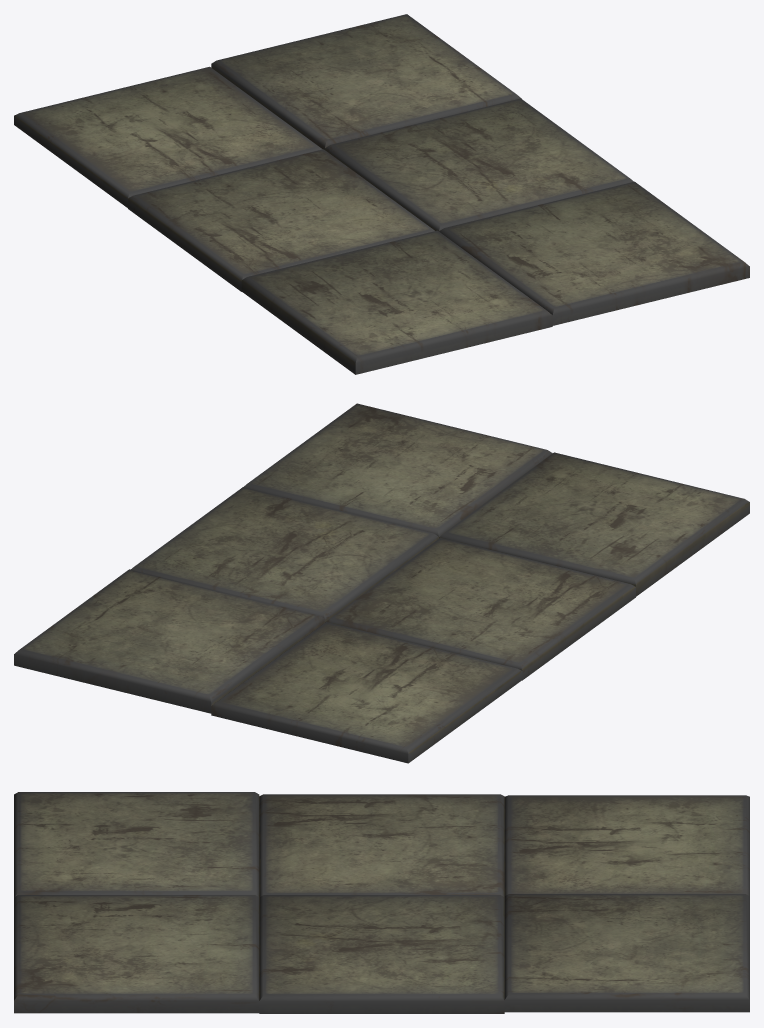
Rendered from SM_StoneFloor9x6.fbx.
3 views of the same model, one above another, from view 1: azimuth 30°, elevation 25°; view 2: azimuth 150°, elevation 25°; view 3: azimuth 270°, elevation 25° (orthographic). The views are drawn at different scales.
Parts seen in each view (by area): view 1: SM_StoneFloor9x6; view 2: SM_StoneFloor9x6; view 3: SM_StoneFloor9x6.
Boxes of the visible parts, <box> form: SM_StoneFloor9x6: <box>14,14,749,374</box>; SM_StoneFloor9x6: <box>14,403,749,763</box>; SM_StoneFloor9x6: <box>14,792,749,1013</box>.
Bounding box in the file's own units: 600 × 25.34 × 900.
